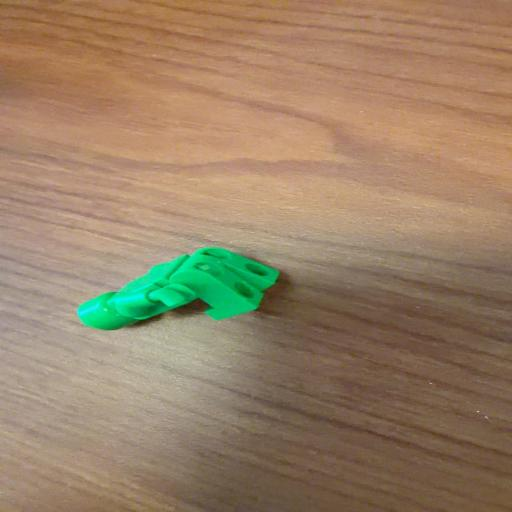UnoQ-minifig-detector: (77, 248, 278, 330)
